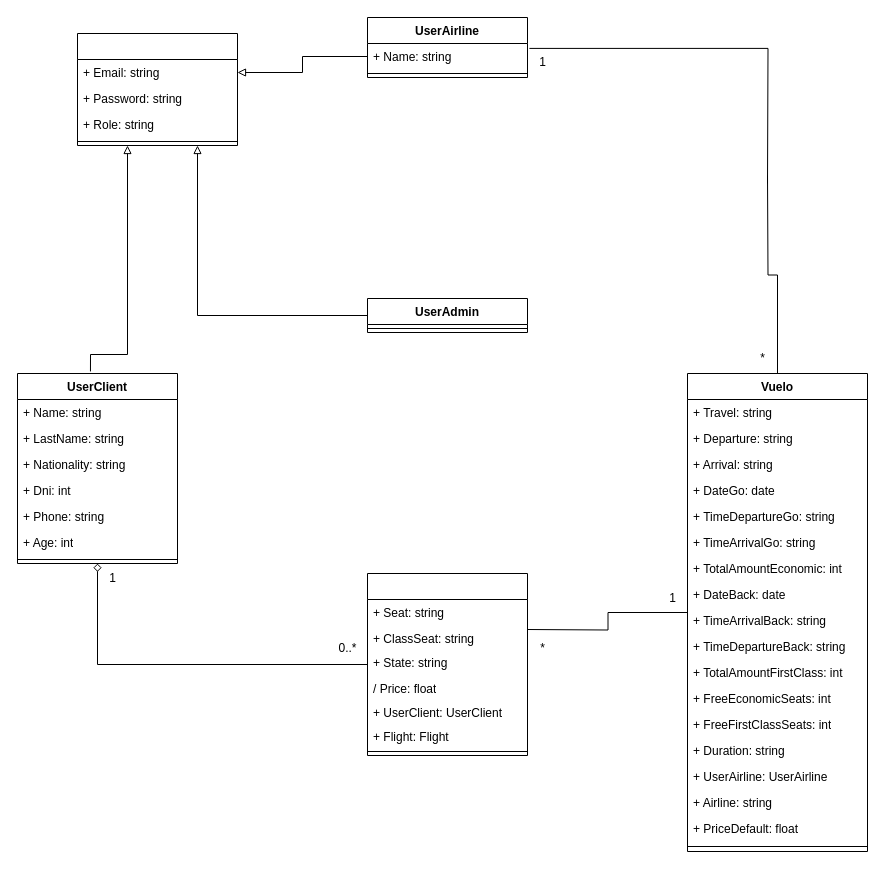
Some shapes in this 885 by 869 pixel diagram are drawn without their labels. Each missing label, with the box of its shape:
Ticket: (366, 572, 528, 756)
User {Abstract}: (76, 32, 238, 146)
